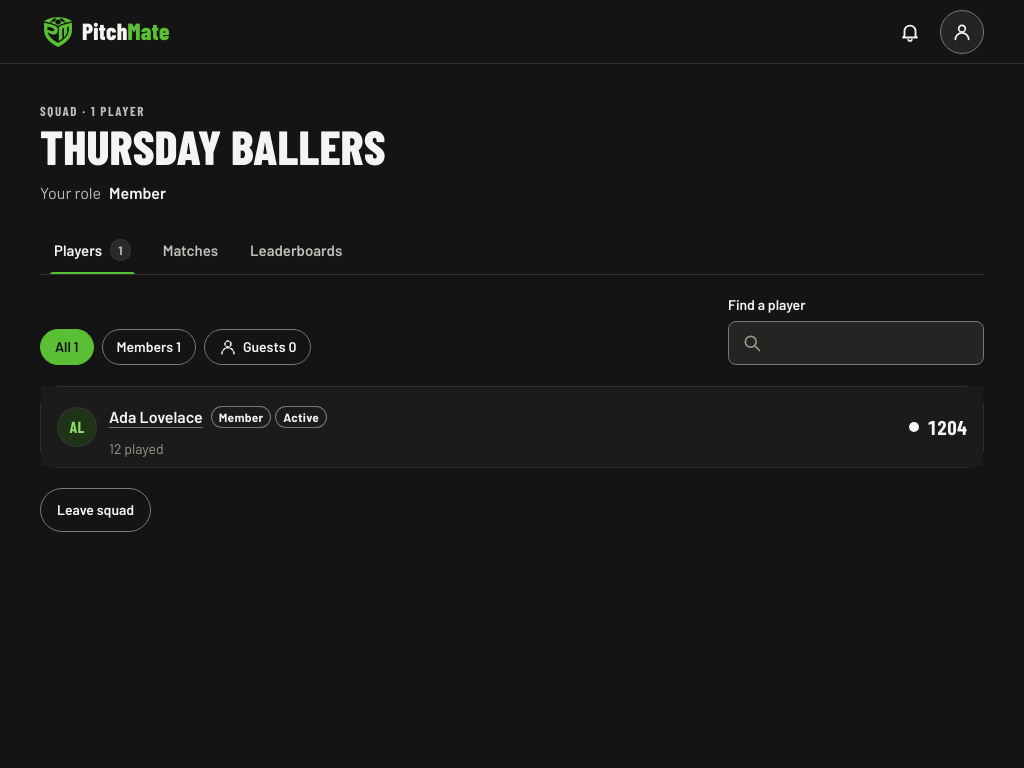
Scenario: in-app navigation through the feature › follows a Player_Row control to the Player_Stats_Route without reloading
Click the button "Ada Lovelace".
click(156, 417)  # box [109,395,203,439]
(page scrolled)
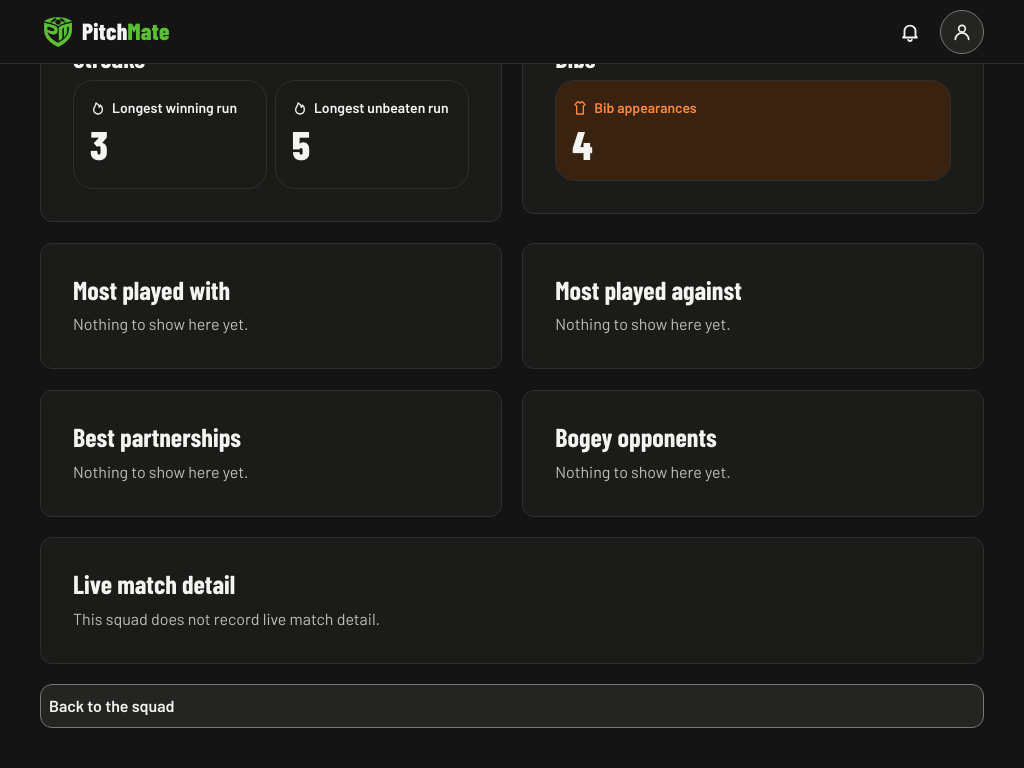
Expected: the heading "Thursday Ballers" is gone
